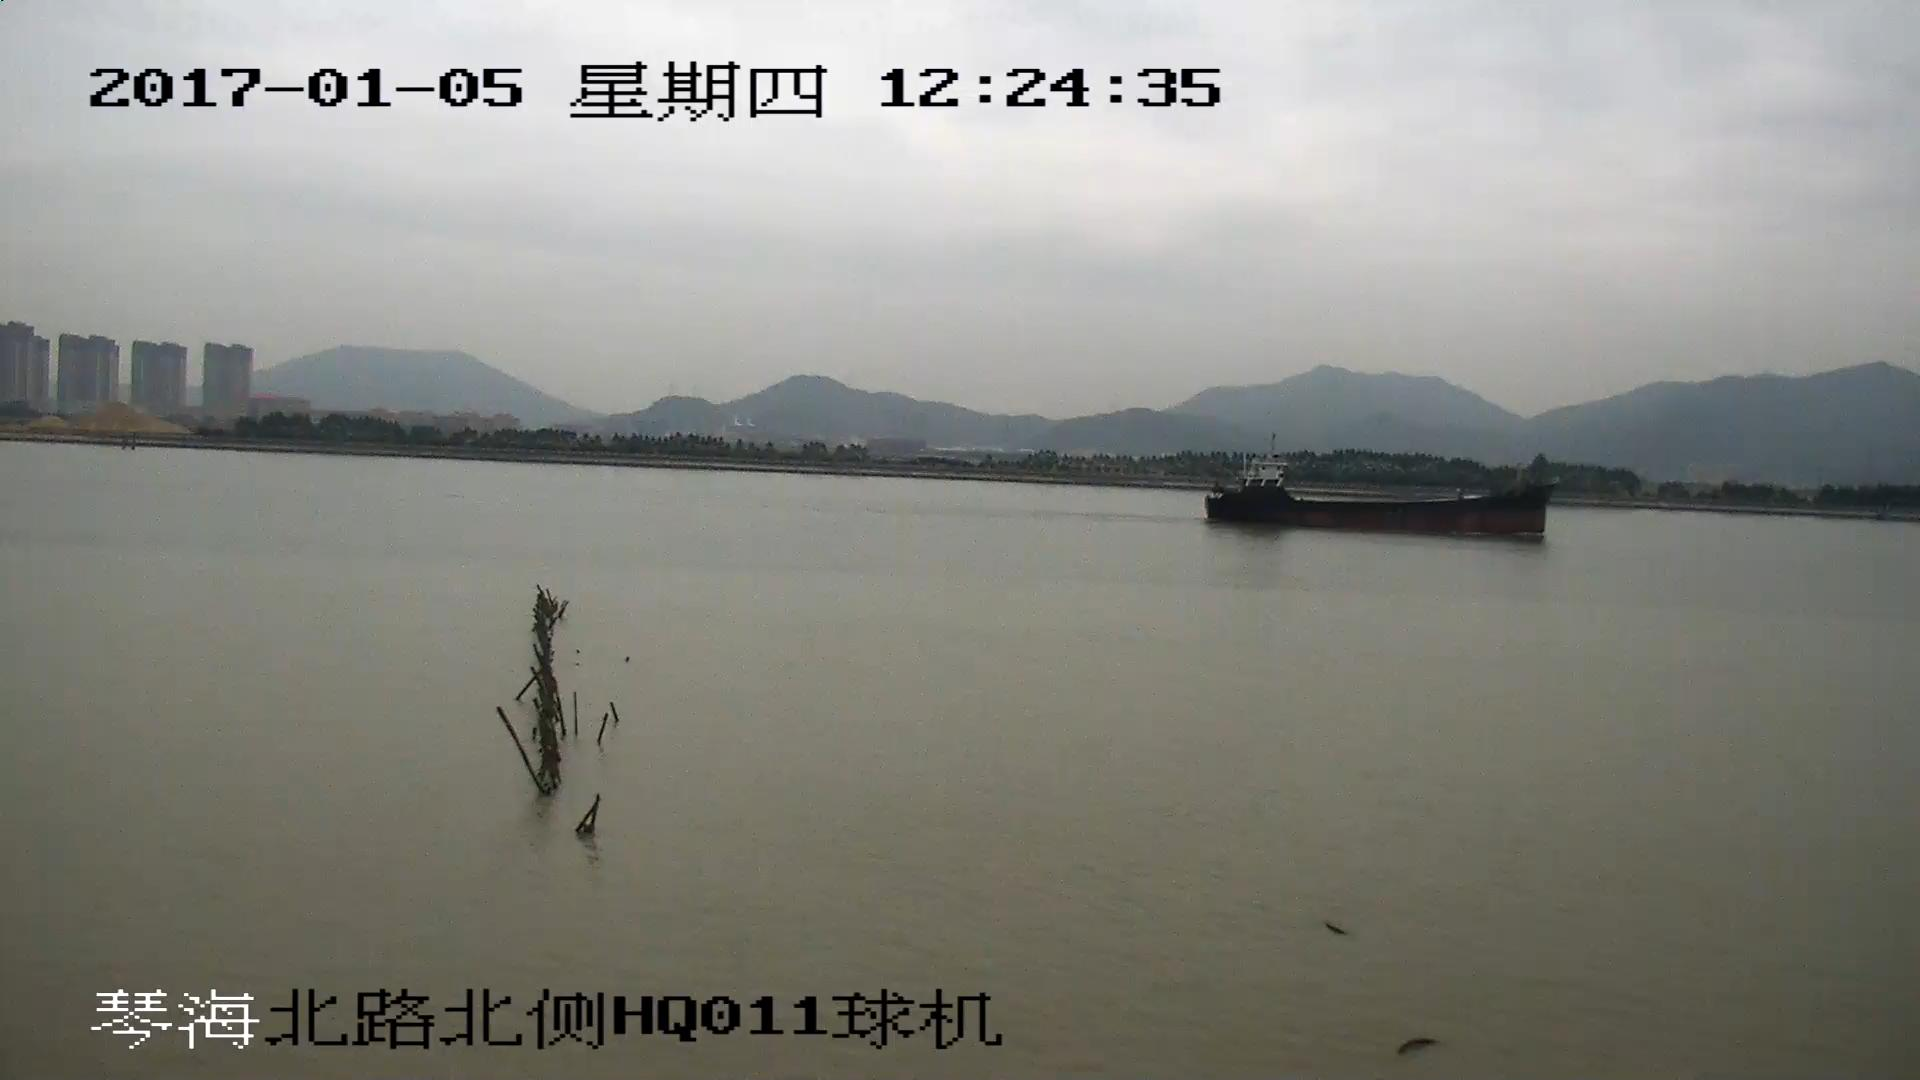general cargo ship: (1202, 451, 1555, 537)
